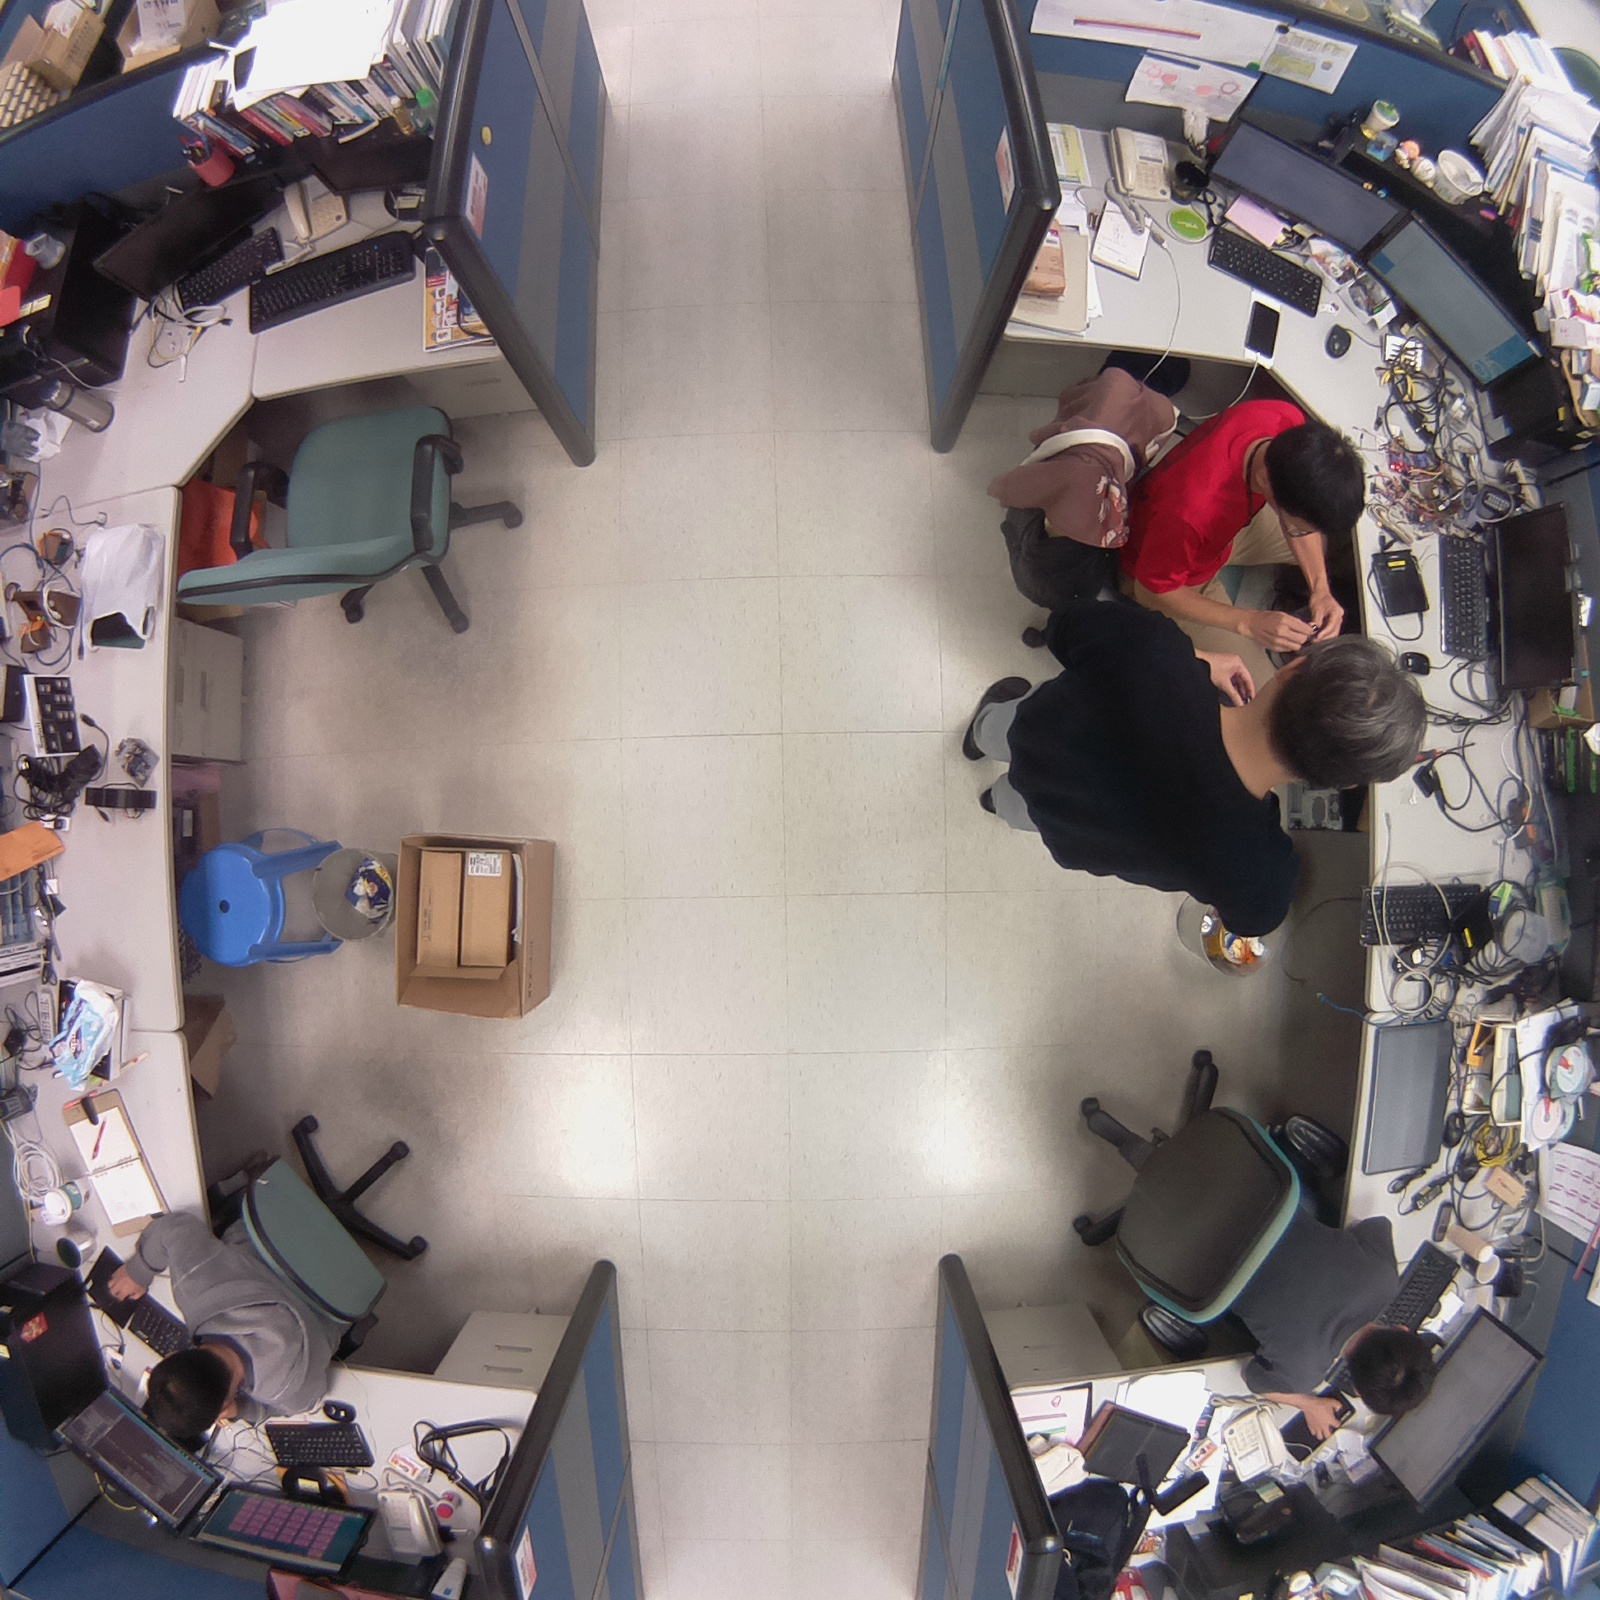chair: (150, 378, 550, 658)
head: (1260, 627, 1437, 794), (1256, 410, 1378, 547), (139, 1343, 248, 1449), (1343, 1314, 1446, 1422)
sitting: (1050, 1032, 1441, 1447), (983, 337, 1395, 660), (87, 1101, 465, 1446)
standing: (941, 603, 1451, 937)
